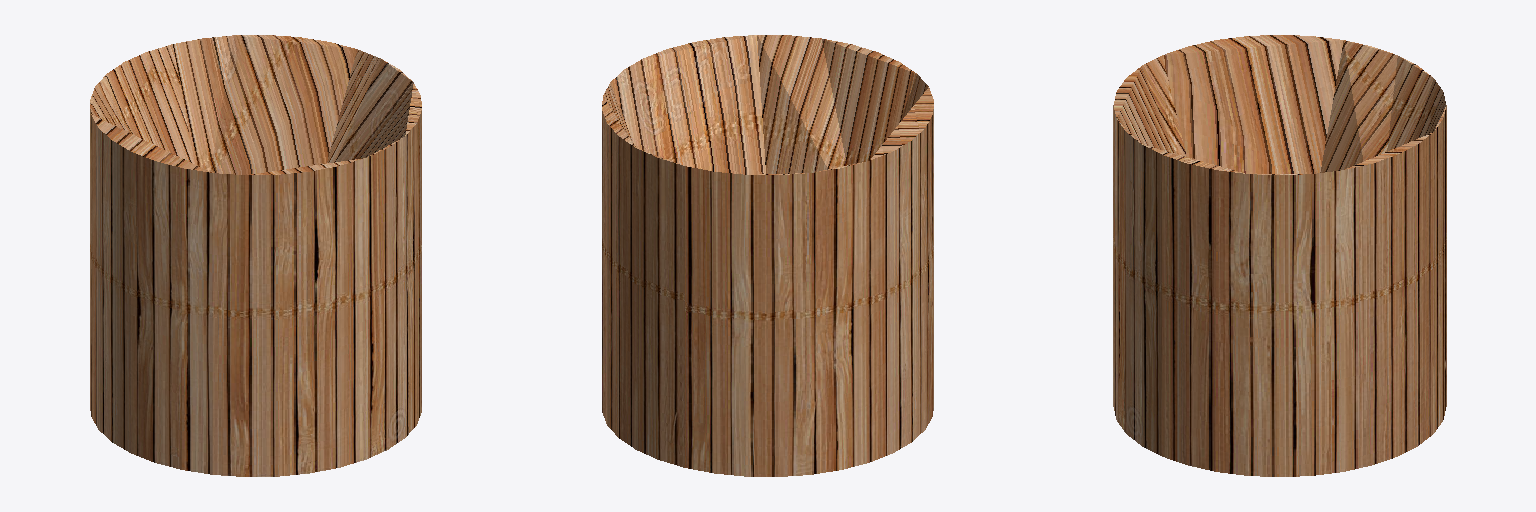
3 renders of one model, left to right at view 1: azimuth 30°, elevation 25°; view 2: azimuth 150°, elevation 25°; view 3: azimuth 270°, elevation 25°, orthographic.
Visible parts, largest first — view 1: Cylinder; view 2: Cylinder; view 3: Cylinder.
Boxes of the visible parts, x1,y1,x2,y2 form: Cylinder: [90, 35, 421, 476]; Cylinder: [602, 35, 933, 476]; Cylinder: [1113, 35, 1446, 476].
Bounding box in the file's own units: 2 × 2 × 2.
Materials: 1 (1 with a texture image).